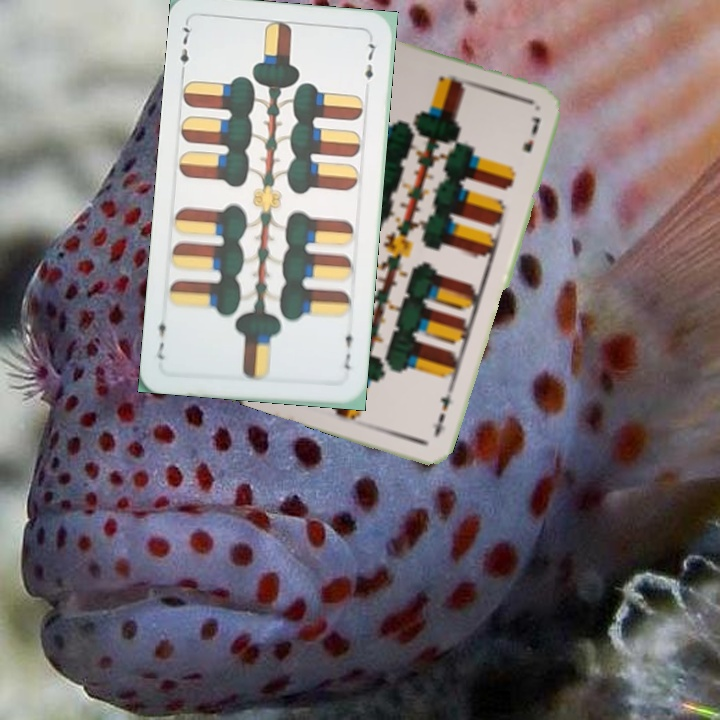E7: (428, 385, 455, 440), (176, 19, 193, 78), (340, 324, 355, 373)
